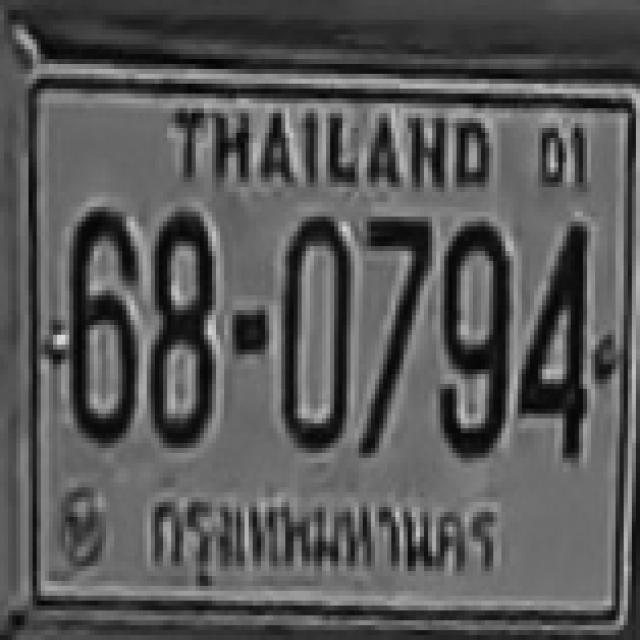0: (277, 212, 347, 448)
4: (516, 217, 585, 458)
6: (69, 204, 139, 441)
7: (359, 212, 428, 453)
8: (149, 207, 214, 443)
9: (436, 217, 506, 453)
Bangkok: (132, 478, 514, 594)
